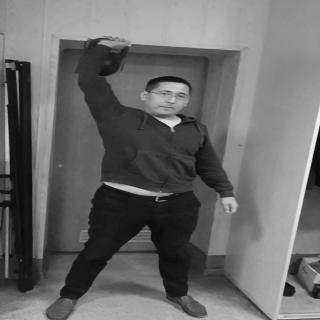kettlebell: (79, 37, 131, 79)
